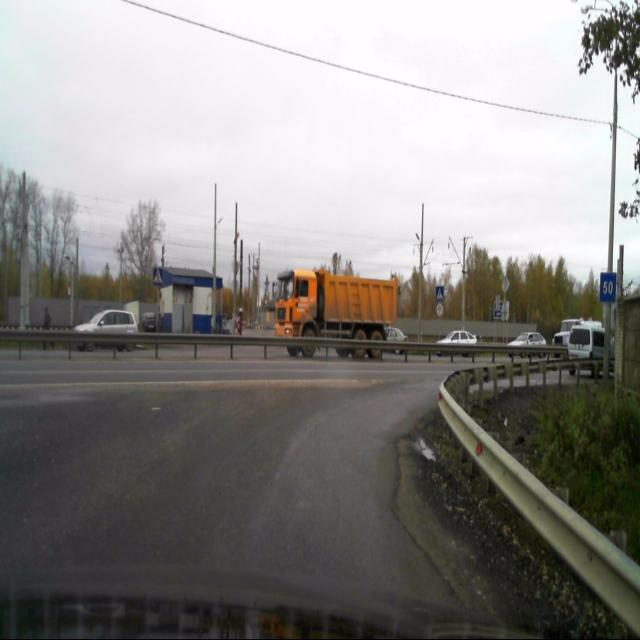road sign: (600, 271, 618, 303)
